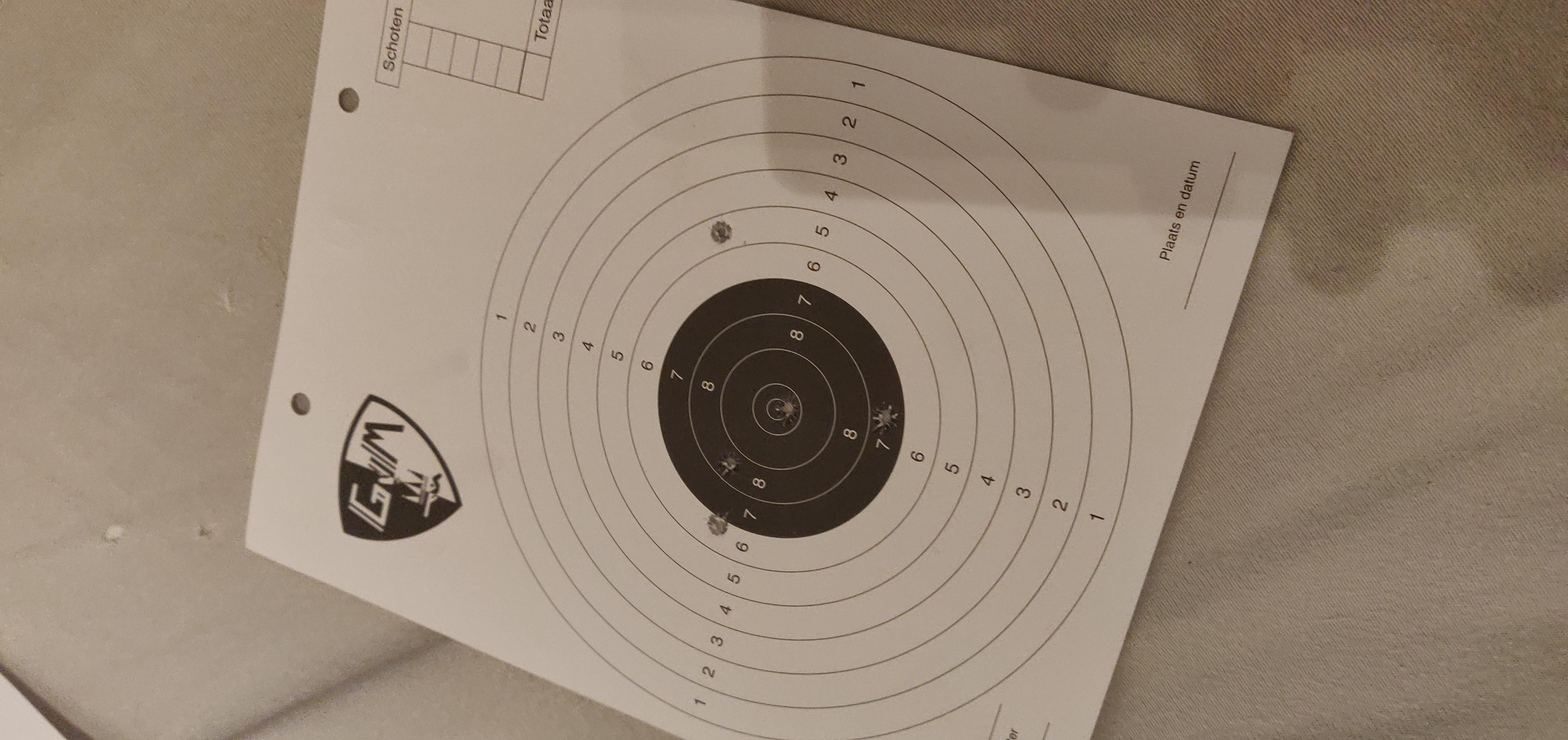hole: (645, 409, 716, 426), (664, 365, 739, 378), (552, 336, 612, 350), (429, 332, 491, 345), (1051, 334, 1103, 347)
